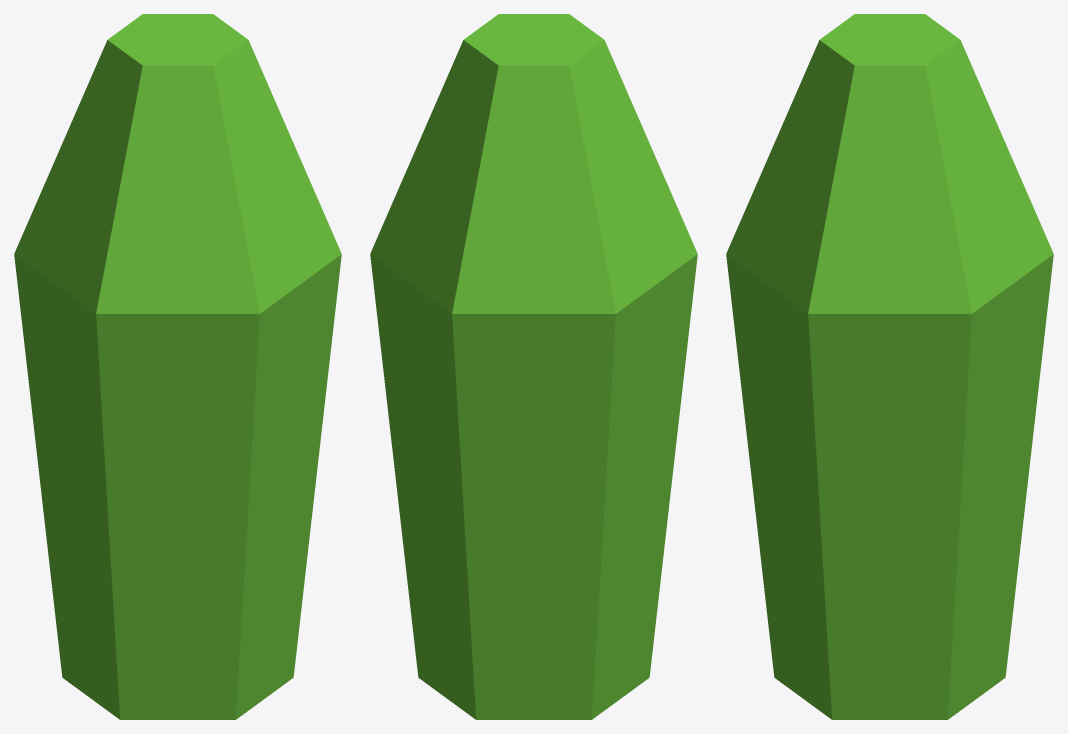
File: lettuceHeart.obj
The picture shows the model from 3 angles, left to right: view 1: azimuth 30°, elevation 25°; view 2: azimuth 150°, elevation 25°; view 3: azimuth 270°, elevation 25°; orthographic projection.
Visible parts, largest first — view 1: cabbage.001; view 2: cabbage.001; view 3: cabbage.001.
Part boxes in pixels (bbox=[...]): cabbage.001: bbox=[14, 14, 341, 719]; cabbage.001: bbox=[370, 14, 697, 719]; cabbage.001: bbox=[726, 14, 1053, 719].
Bounding box in the file's own units: 0.1104 × 0.2739 × 0.1275.
